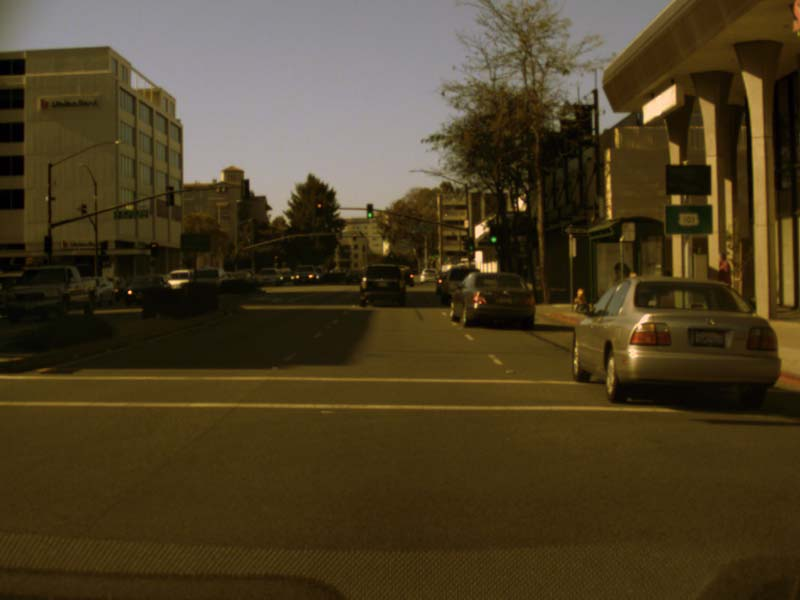Green: (488, 224, 500, 245), (366, 204, 373, 217), (468, 237, 473, 250), (430, 251, 433, 259), (435, 250, 438, 258), (389, 252, 393, 258), (382, 235, 384, 241)
Red: (150, 242, 157, 257), (316, 202, 322, 216), (352, 233, 355, 240)
